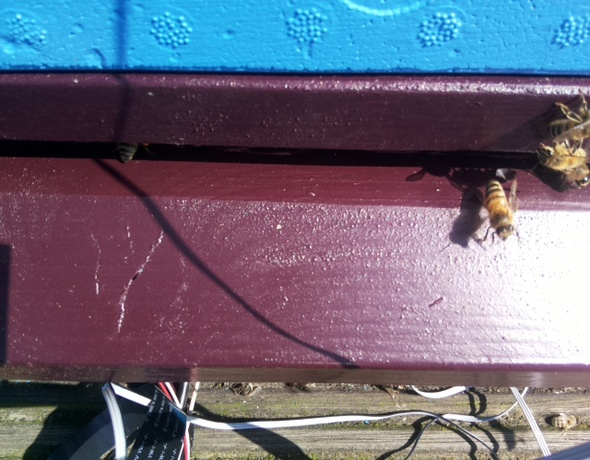no_pollen: (474, 174, 521, 248), (534, 141, 590, 173), (551, 156, 590, 190)
pollen: (544, 96, 590, 144), (111, 136, 151, 164)
